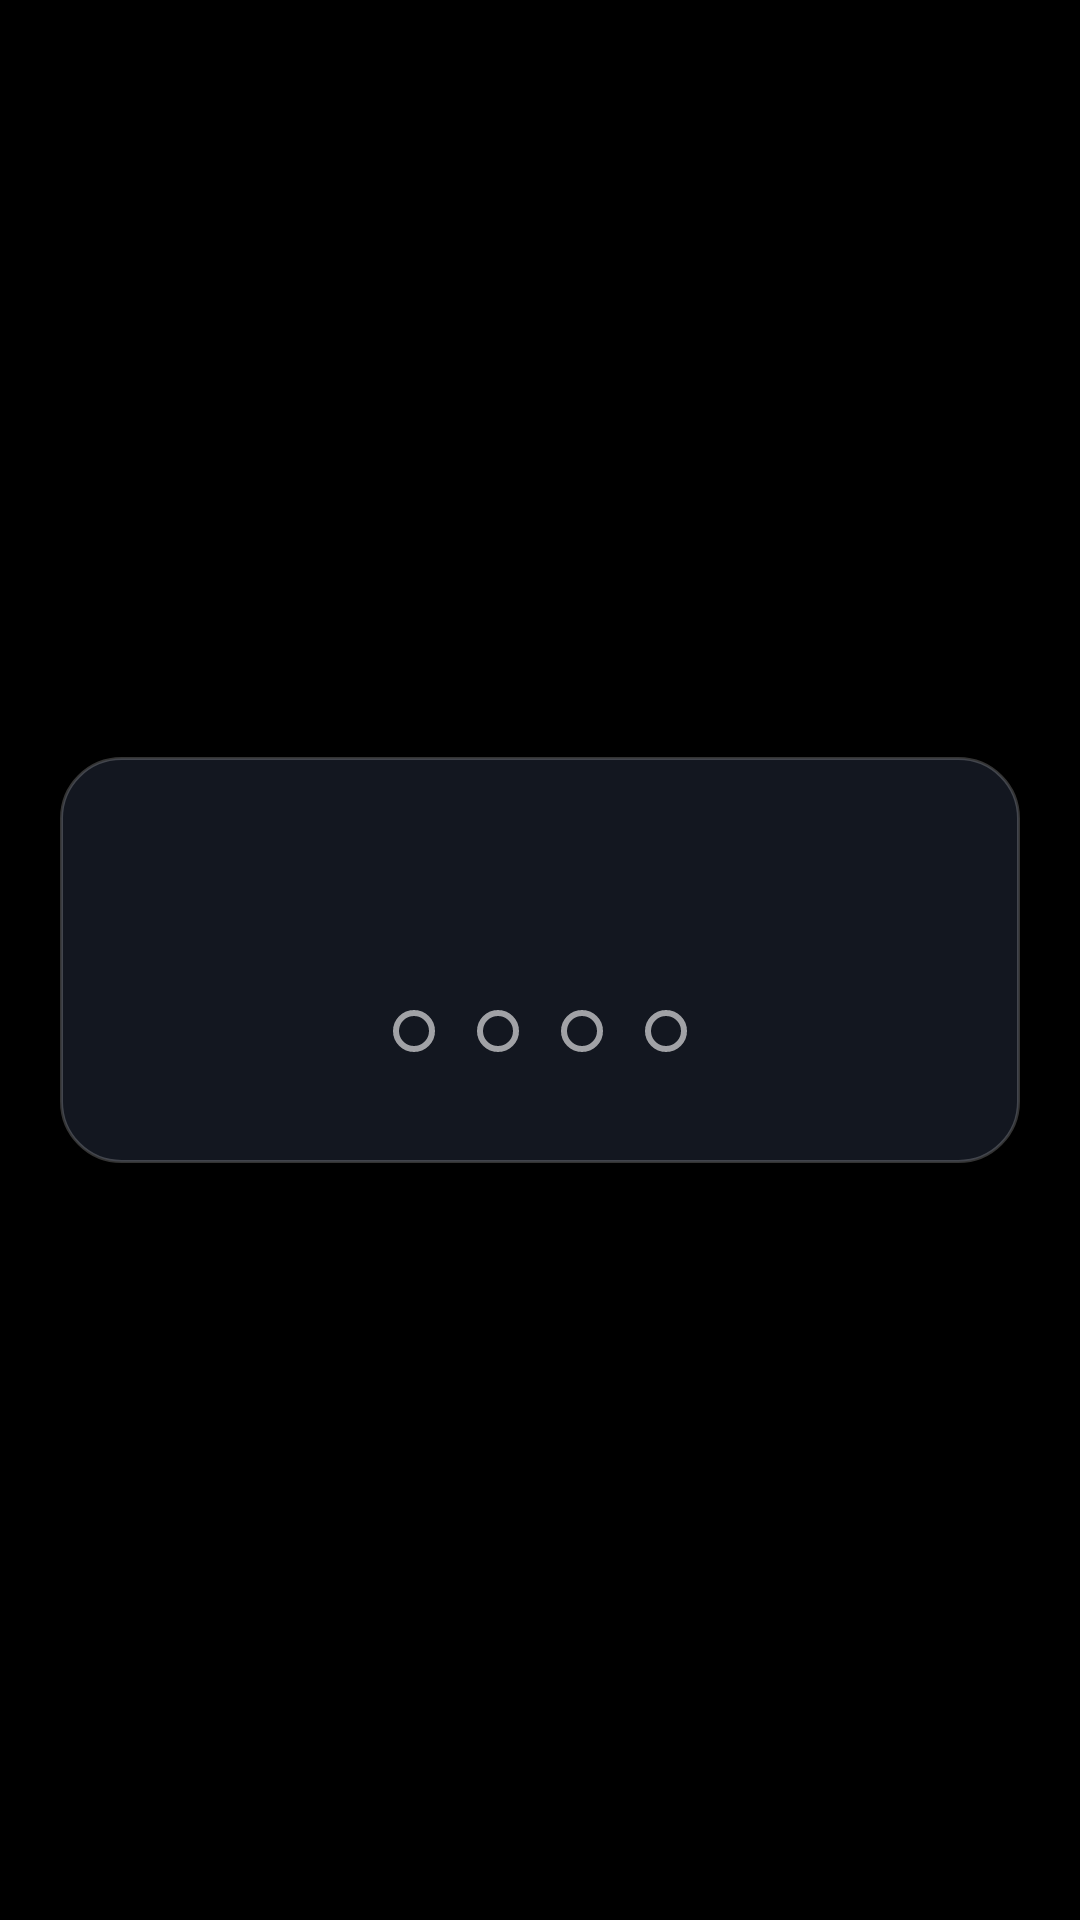

Point at icon controls on the screen. Image size 1080w x 1920h, points as (x,y).
pin dot empty: (414,1031), (498,1031), (582,1031), (666,1031)
